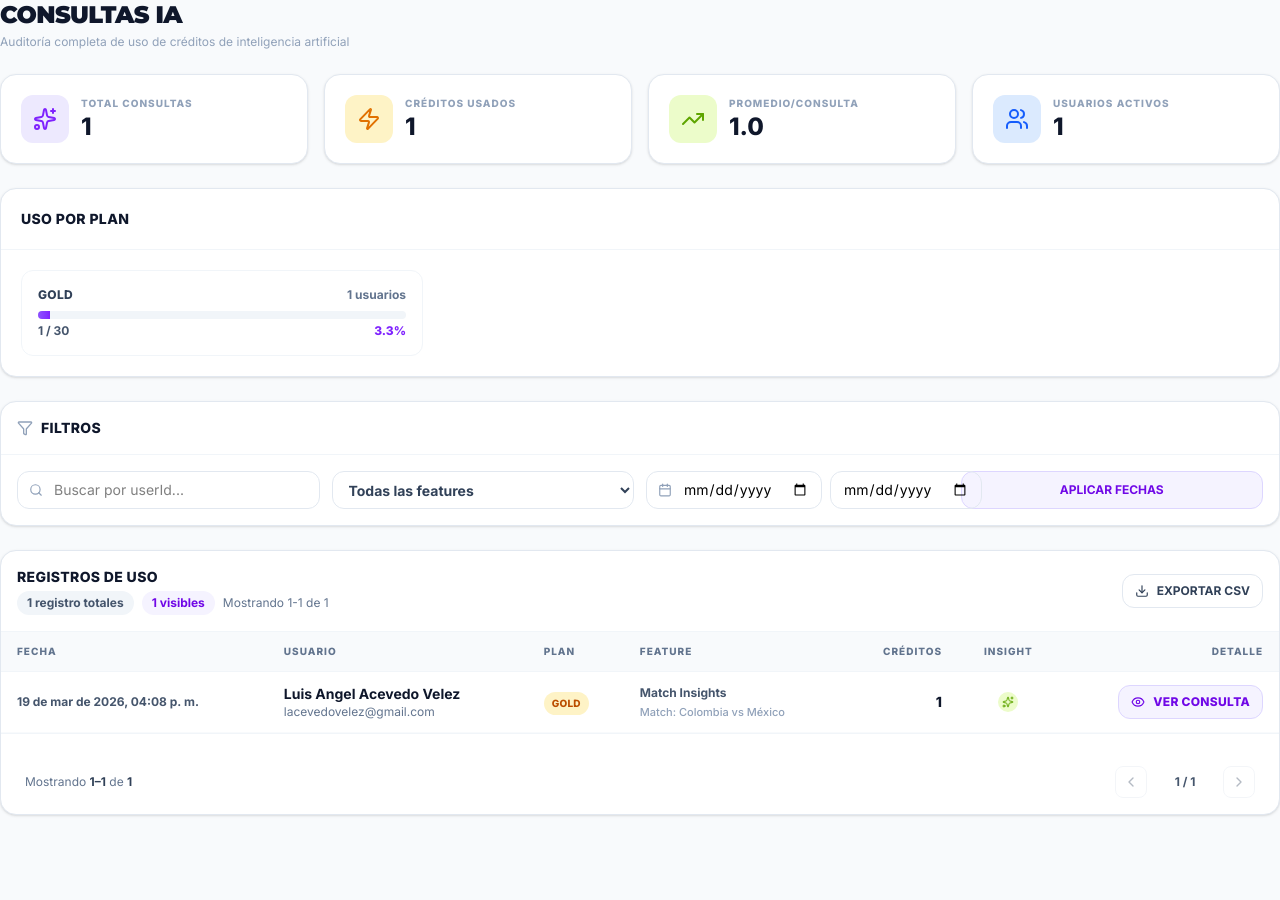
Scenario: AdminAiUsage › opens a detail modal with the request and response payloads
Click the button "Ver consulta": click(1191, 702) top-left (1118, 685), bottom-right (1263, 719)
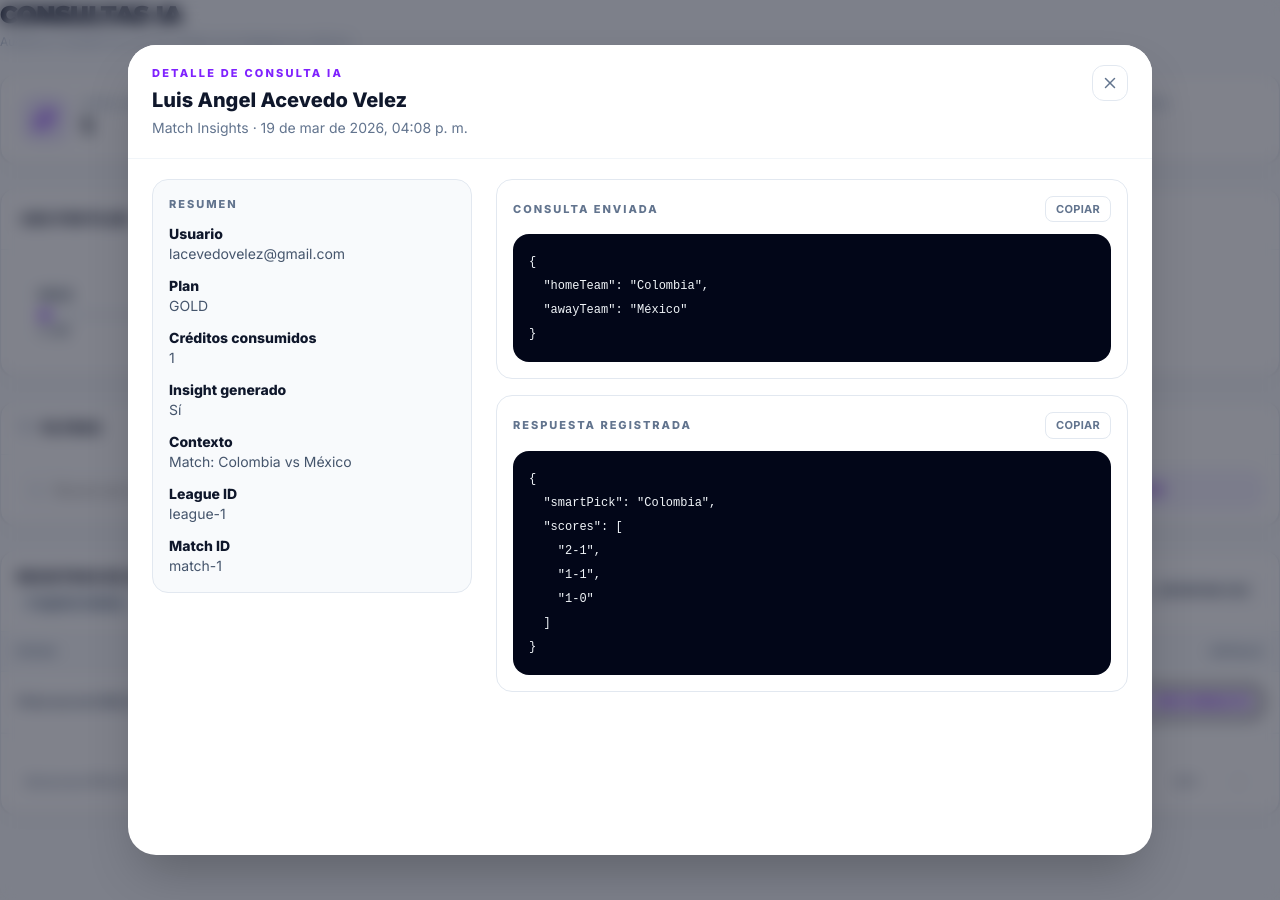
Check: the text "Detalle de consulta IA" is shown, box top-left (152, 66), bottom-right (343, 80)
Check: the text "Consulta enviada" is shown, box top-left (513, 200), bottom-right (659, 217)
Check: the text "Respuesta registrada" is shown, box top-left (513, 417), bottom-right (692, 434)
